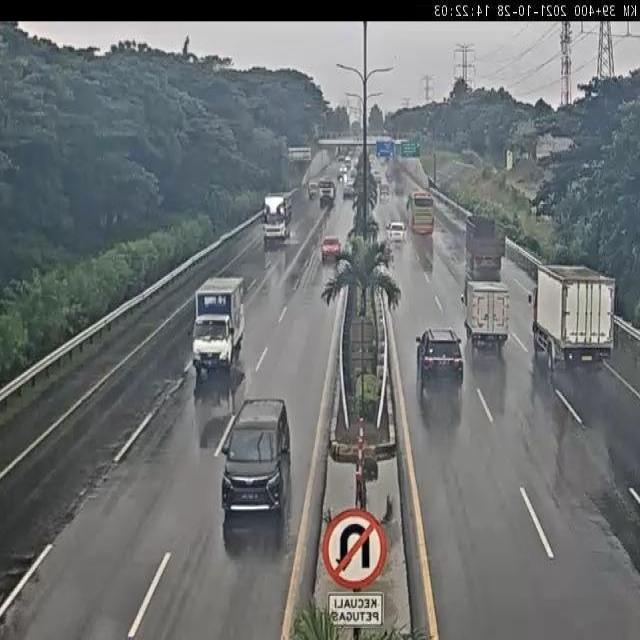Bus: (406, 190, 435, 237)
Car: (218, 397, 292, 517), (415, 326, 463, 393), (321, 235, 341, 262), (386, 220, 406, 244)
Truck: (528, 264, 618, 370), (189, 274, 245, 376), (460, 281, 511, 350), (463, 213, 509, 273), (262, 191, 294, 243), (317, 179, 336, 208), (308, 180, 318, 199)
